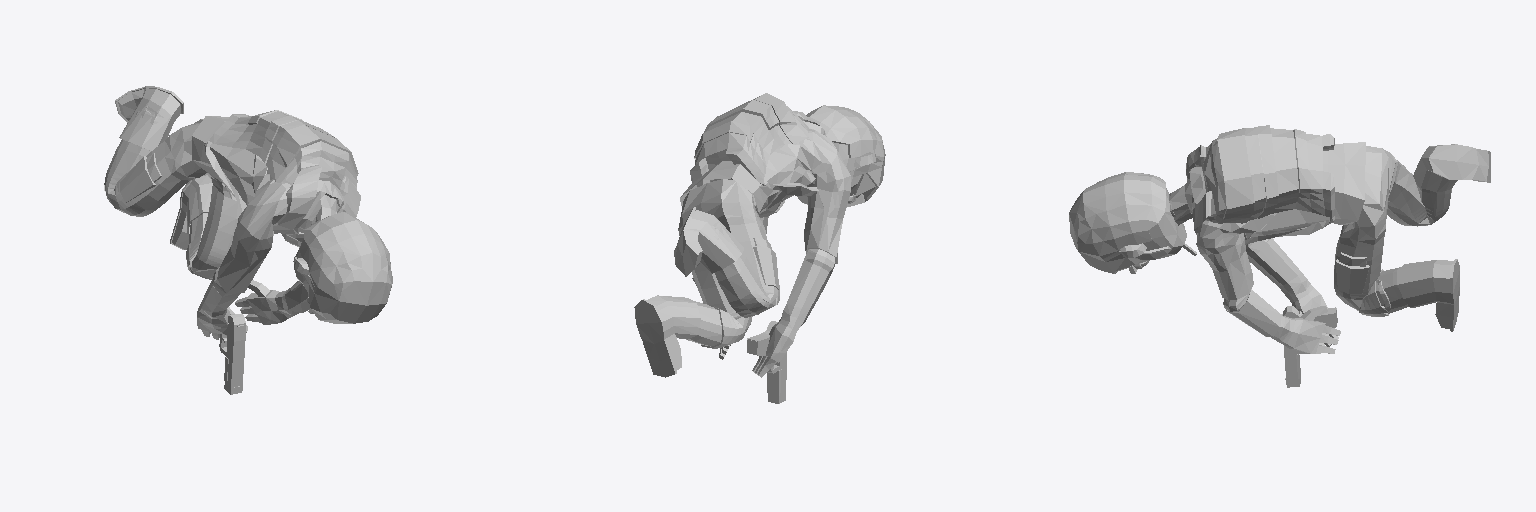
Rendered from frame_0009.obj.
The picture shows the model from 3 angles: view 1: azimuth 30°, elevation 25°; view 2: azimuth 150°, elevation 25°; view 3: azimuth 270°, elevation 25°; orthographic projection.
Visible parts, largest first — view 1: Body, Gun; view 2: Body, Gun; view 3: Body, Gun.
Boxes of the visible parts, x1=… form: Body: x1=104, y1=86, x2=392, y2=339; Gun: x1=219, y1=307, x2=245, y2=394; Body: x1=634, y1=93, x2=885, y2=377; Gun: x1=747, y1=321, x2=786, y2=403; Body: x1=1069, y1=125, x2=1490, y2=353; Gun: x1=1282, y1=306, x2=1337, y2=387.
Size of the model in its own units: 1.41 by 2.43 by 3.4.